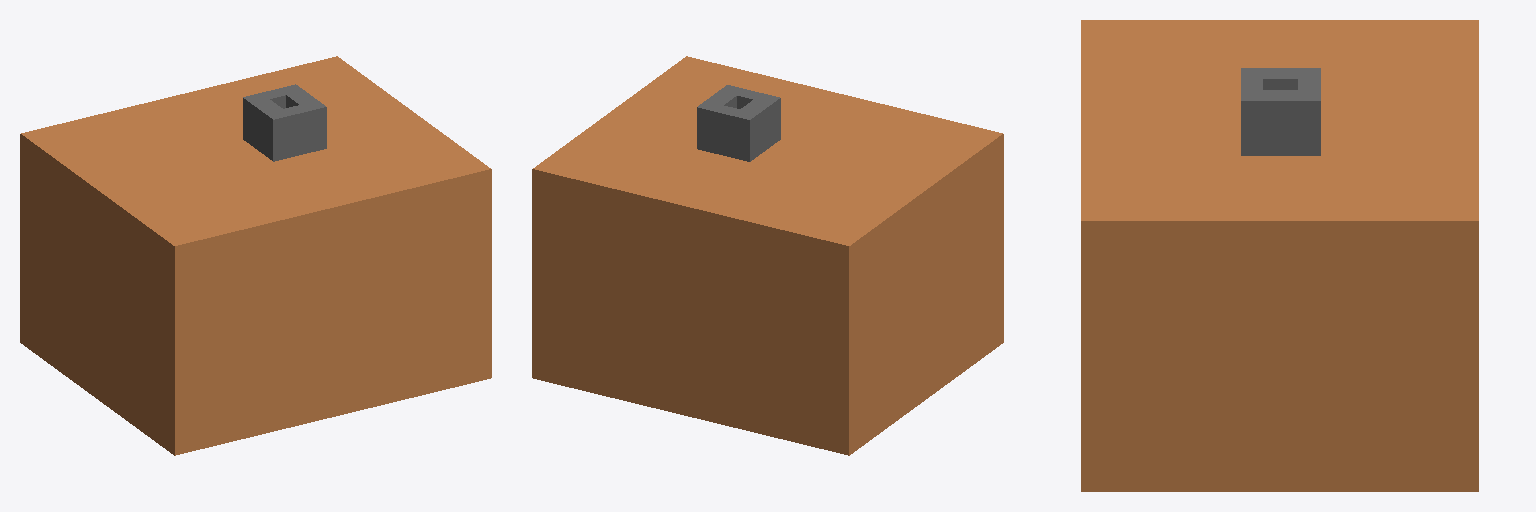
robot.urdf — peg_in_hole_scene_0049_tol05:
<?xml version="1.0"?>
<robot name="peg_in_hole_scene_0049_tol05">
  <material name="wood"><color rgba="0.82 0.56 0.35 1.0"/></material>
  <material name="hole_grey"><color rgba="0.4706 0.4706 0.4706 1.0"/></material>
  <link name="box">
    <visual>
      <origin xyz="0.000000 0.000000 0.000000" rpy="0 0 0"/>
      <geometry><box size="0.475000 0.400000 0.300000"/></geometry>
      <material name="wood"/>
    </visual>
    <collision>
      <origin xyz="0.000000 0.000000 0.000000" rpy="0 0 0"/>
      <geometry><box size="0.475000 0.400000 0.300000"/></geometry>
    </collision>
    <visual>
      <origin xyz="0.043515 0.000706 0.155000" rpy="0 0 0"/>
      <geometry><box size="0.080000 0.080000 0.010000"/></geometry>
      <material name="hole_grey"/>
    </visual>
    <collision>
      <origin xyz="0.043515 0.000706 0.155000" rpy="0 0 0"/>
      <geometry><box size="0.080000 0.080000 0.010000"/></geometry>
    </collision>
    <visual>
      <origin xyz="0.069706 0.000706 0.185000" rpy="0 0 0"/>
      <geometry><box size="0.027618 0.080000 0.050000"/></geometry>
      <material name="hole_grey"/>
    </visual>
    <collision>
      <origin xyz="0.069706 0.000706 0.185000" rpy="0 0 0"/>
      <geometry><box size="0.027618 0.080000 0.050000"/></geometry>
    </collision>
    <visual>
      <origin xyz="0.017324 0.000706 0.185000" rpy="0 0 0"/>
      <geometry><box size="0.027618 0.080000 0.050000"/></geometry>
      <material name="hole_grey"/>
    </visual>
    <collision>
      <origin xyz="0.017324 0.000706 0.185000" rpy="0 0 0"/>
      <geometry><box size="0.027618 0.080000 0.050000"/></geometry>
    </collision>
    <visual>
      <origin xyz="0.043515 0.029397 0.185000" rpy="0 0 0"/>
      <geometry><box size="0.024763 0.022618 0.050000"/></geometry>
      <material name="hole_grey"/>
    </visual>
    <collision>
      <origin xyz="0.043515 0.029397 0.185000" rpy="0 0 0"/>
      <geometry><box size="0.024763 0.022618 0.050000"/></geometry>
    </collision>
    <visual>
      <origin xyz="0.043515 -0.027984 0.185000" rpy="0 0 0"/>
      <geometry><box size="0.024763 0.022618 0.050000"/></geometry>
      <material name="hole_grey"/>
    </visual>
    <collision>
      <origin xyz="0.043515 -0.027984 0.185000" rpy="0 0 0"/>
      <geometry><box size="0.024763 0.022618 0.050000"/></geometry>
    </collision>
    <inertial>
      <mass value="500"/>
      <friction value="1.0"/>
      <inertia ixx="1000.0" ixy="0.0" ixz="0.0" iyy="1000.0" iyz="0.0" izz="1000.0"/>
    </inertial>
  </link>
</robot>

--- Facts derived from the render (not from the file) ---
3 views of the same robot in one strip: view 1: azimuth 30°, elevation 25°; view 2: azimuth 150°, elevation 25°; view 3: azimuth 270°, elevation 25° (orthographic).
Model peg_in_hole_scene_0049_tol05 with 1 links and 0 joints (none), rooted at box, posed all joints at 0.
Links seen in each view (by area): view 1: box; view 2: box; view 3: box.
Link boxes in pixels (x1,y1,x2,y2): box: (20, 56, 491, 455); box: (532, 56, 1003, 455); box: (1081, 20, 1478, 491).
Size in the robot's own frame: 0.475 by 0.4 by 0.36 metres.
Geometry: primitives only (box / cylinder / sphere), no mesh files.
